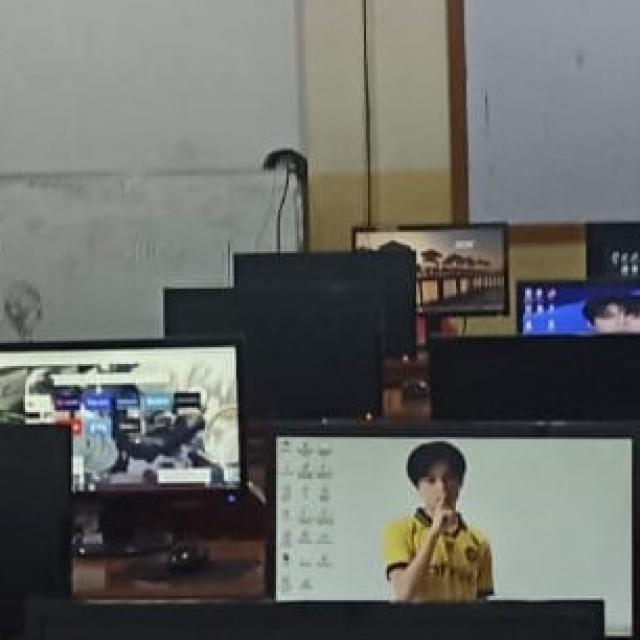offscreen: (163, 291, 383, 423), (230, 250, 411, 357), (431, 335, 640, 419), (589, 222, 640, 278)
onscreen: (276, 438, 630, 636), (0, 344, 239, 491), (355, 219, 506, 317), (521, 282, 640, 335)
